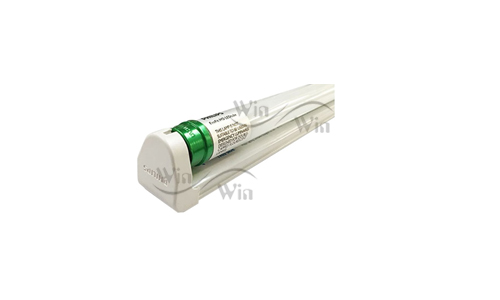Light_bulb: (168, 82, 339, 162)
